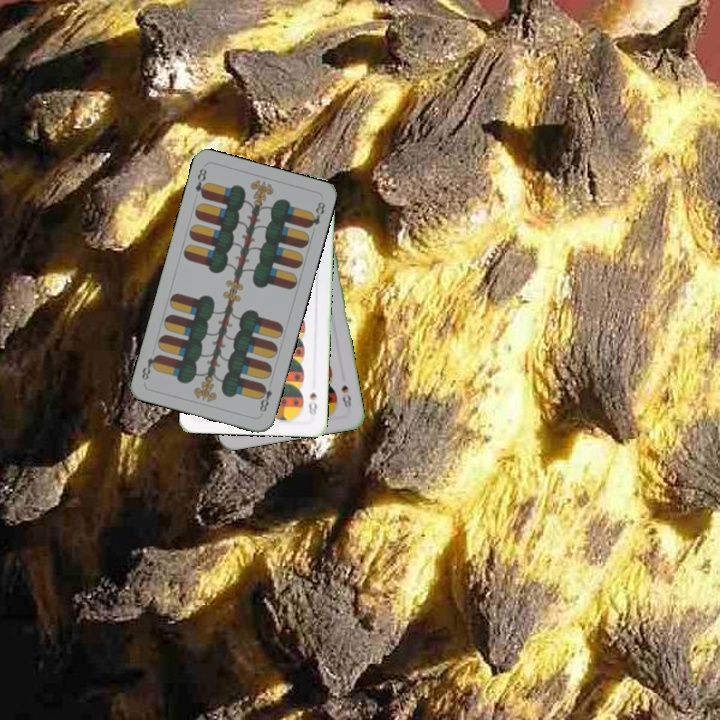E8: (255, 380, 275, 415), (191, 164, 210, 200)
S8: (337, 381, 354, 411), (304, 389, 319, 420)
